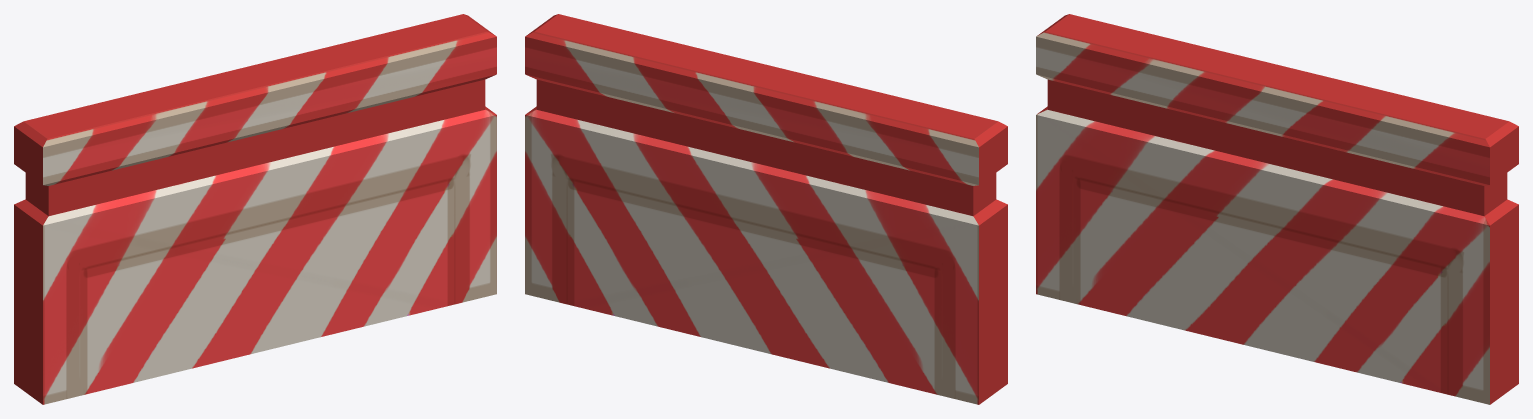
File: block.glb
3 views of the same model, side by side, from view 1: azimuth 30°, elevation 25°; view 2: azimuth 150°, elevation 25°; view 3: azimuth 330°, elevation 25° (orthographic).
Parts seen in each view (by area): view 1: tile_coin.003; view 2: tile_coin.003; view 3: tile_coin.003.
Boxes of the visible parts, box(x1,y1,x2,y2) form: tile_coin.003: box(14, 14, 496, 404); tile_coin.003: box(525, 14, 1007, 404); tile_coin.003: box(1036, 14, 1518, 404).
Bounding box in the file's own units: 0.8062 × 0.4454 × 0.0889.
1 material, 1 textured.
